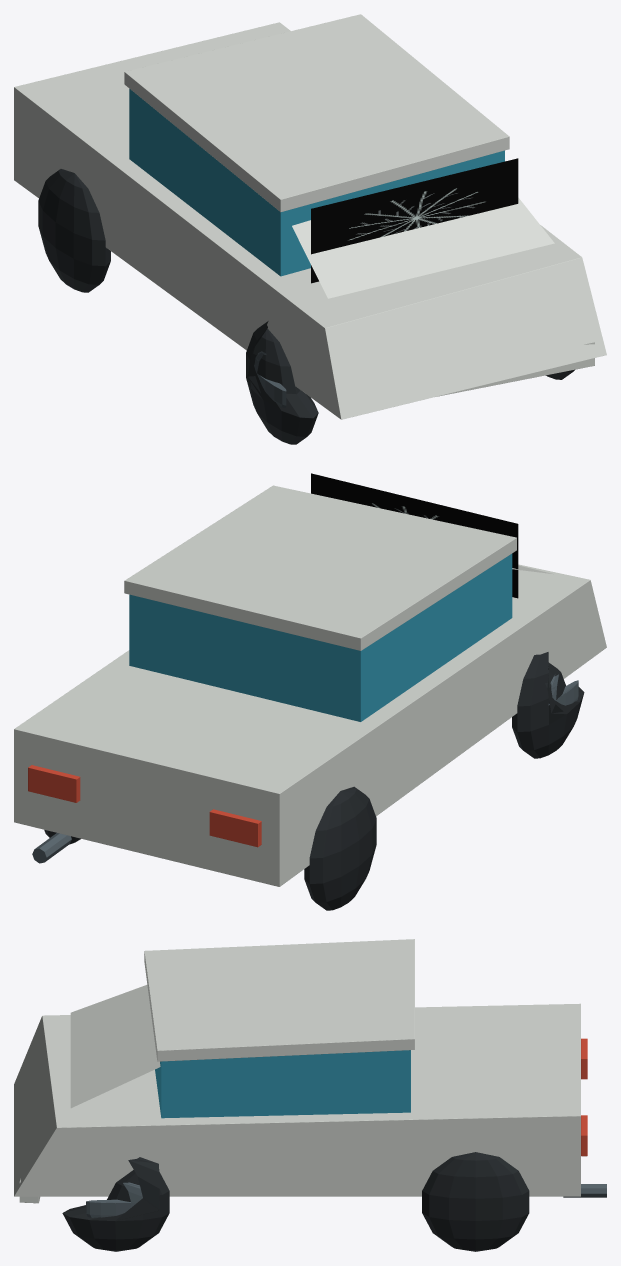
Rendered from SAF_DAMAGED_CAR_01.fbx.
3 views of the same model, one above another, from view 1: azimuth 30°, elevation 25°; view 2: azimuth 150°, elevation 25°; view 3: azimuth 270°, elevation 25° (orthographic). The views are drawn at different scales.
Visible parts, largest first — view 1: SAF_DAMAGED_CAR_01; view 2: SAF_DAMAGED_CAR_01; view 3: SAF_DAMAGED_CAR_01.
Part boxes in pixels (x1=…): SAF_DAMAGED_CAR_01: x1=14, y1=14, x2=606, y2=444; SAF_DAMAGED_CAR_01: x1=14, y1=473, x2=606, y2=910; SAF_DAMAGED_CAR_01: x1=14, y1=939, x2=606, y2=1251.
Bounding box in the file's own units: 187 × 141 × 366.
7 materials, 1 textured.
